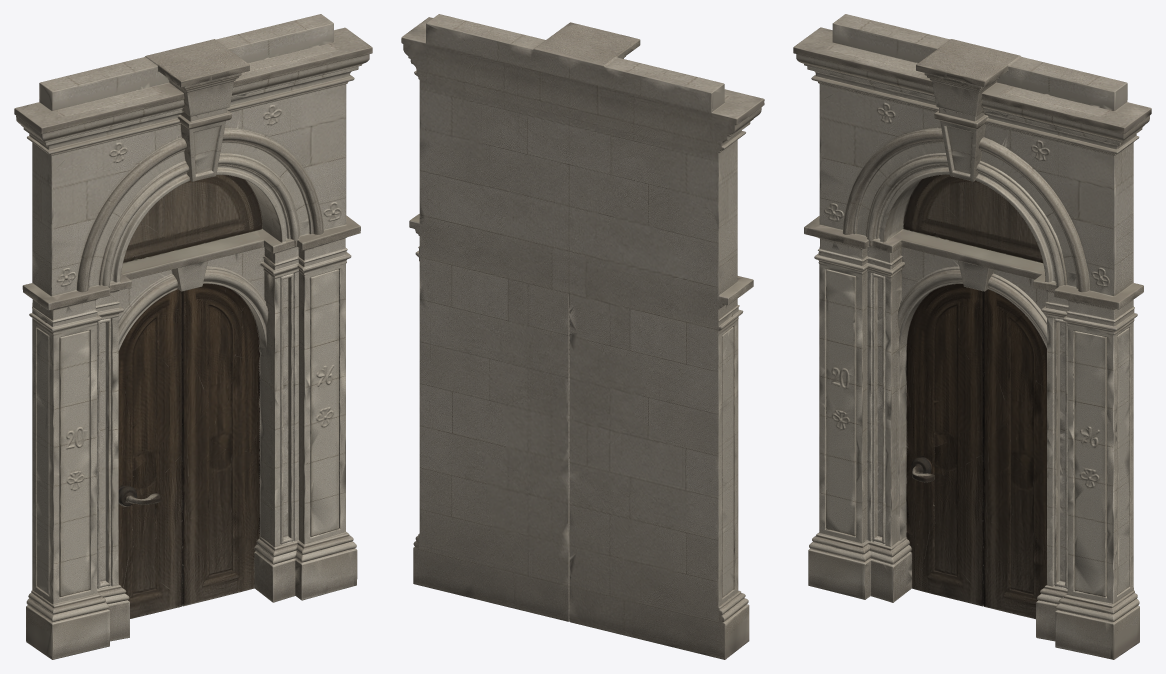
The model's file is portale_pietra.glb.
The picture shows the model from 3 angles, left to right: view 1: azimuth 30°, elevation 25°; view 2: azimuth 150°, elevation 25°; view 3: azimuth 330°, elevation 25°; orthographic projection.
Visible parts, largest first — view 1: Mesh_0; view 2: Mesh_0; view 3: Mesh_0.
Boxes of the visible parts, x1=… form: Mesh_0: x1=14, y1=14, x2=372, y2=659; Mesh_0: x1=401, y1=14, x2=764, y2=659; Mesh_0: x1=793, y1=14, x2=1151, y2=659.
Bounding box in the file's own units: 2.18 × 3.5 × 0.4089.
1 material, 1 textured.
